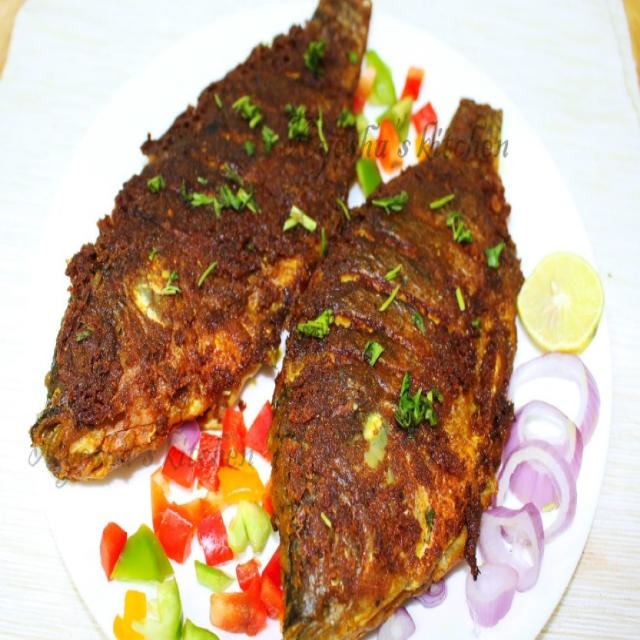FISH FRY: (30, 3, 518, 638)
